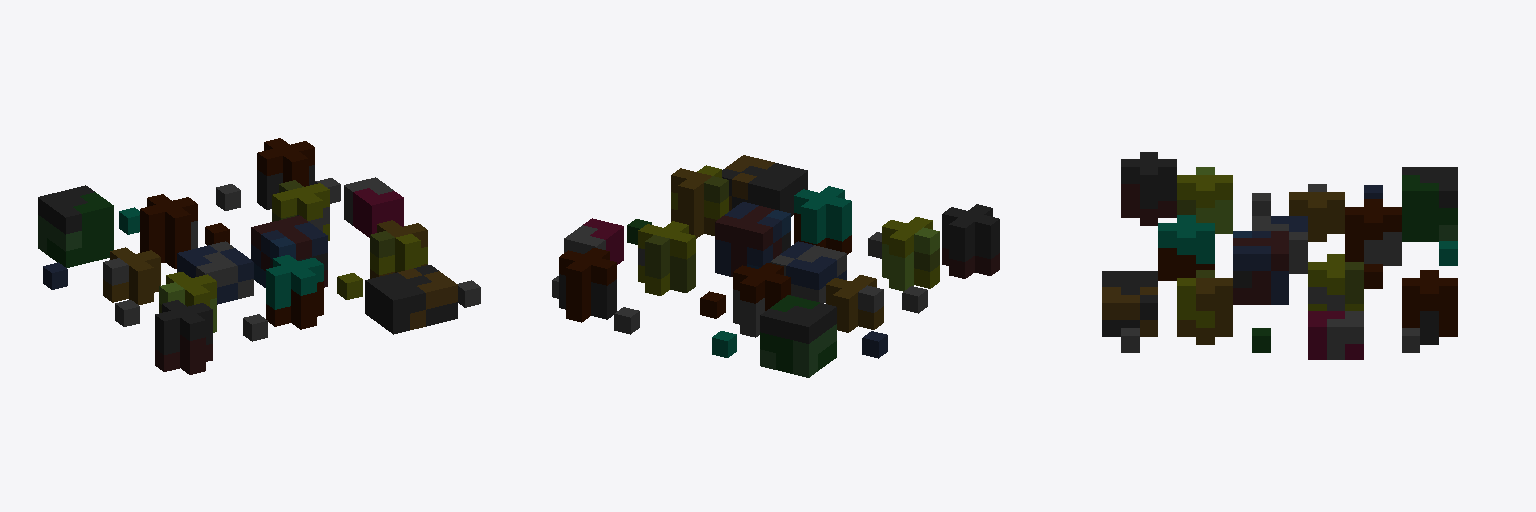
3 renders of one model, left to right at view 1: azimuth 30°, elevation 25°; view 2: azimuth 150°, elevation 25°; view 3: azimuth 270°, elevation 25°, orthographic.
Parts seen in each view (by area): view 1: Noodle_Cup; view 2: Noodle_Cup; view 3: Noodle_Cup.
Part boxes in pixels (x1,y1,x2,y2): Noodle_Cup: (38,138,480,374); Noodle_Cup: (552,155,999,377); Noodle_Cup: (1102,152,1457,359).
Bounding box in the file's own units: 2 × 0.3 × 1.9.
Materials: 1 (1 with a texture image).